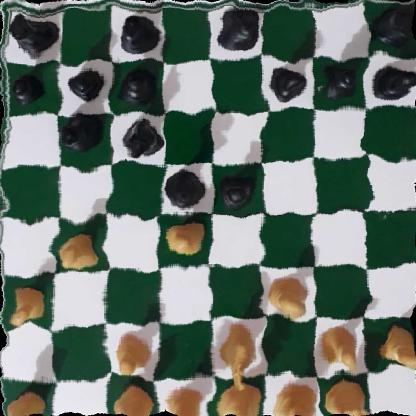black-bishop: (114, 13, 161, 56), (57, 114, 107, 153)
black-king: (214, 5, 265, 53)
black-knight: (123, 115, 162, 157)
black-pawn: (372, 60, 416, 101), (216, 167, 257, 208), (116, 64, 157, 104), (320, 59, 360, 99), (271, 59, 306, 104), (69, 64, 105, 104), (11, 66, 46, 105)
black-queen: (164, 167, 200, 210)
black-rook: (0, 9, 57, 55), (373, 0, 416, 47)
white-bishop: (272, 381, 316, 416), (113, 378, 152, 416)
white-king: (217, 377, 262, 416)
white-knight: (216, 325, 261, 387)
white-pawn: (318, 321, 360, 372), (57, 225, 101, 271), (112, 334, 152, 381), (265, 274, 306, 319), (8, 285, 45, 330), (377, 327, 416, 369), (164, 216, 203, 254)
white-queen: (158, 384, 207, 416)
white-rook: (324, 383, 373, 416), (0, 386, 45, 416)
